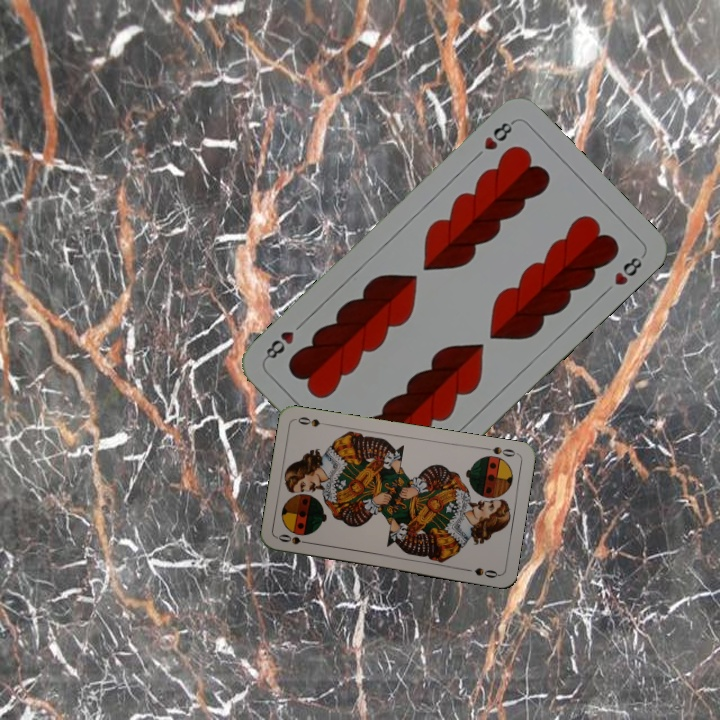H8: (479, 116, 517, 153)
SO: (274, 530, 315, 547), (480, 442, 520, 459)
